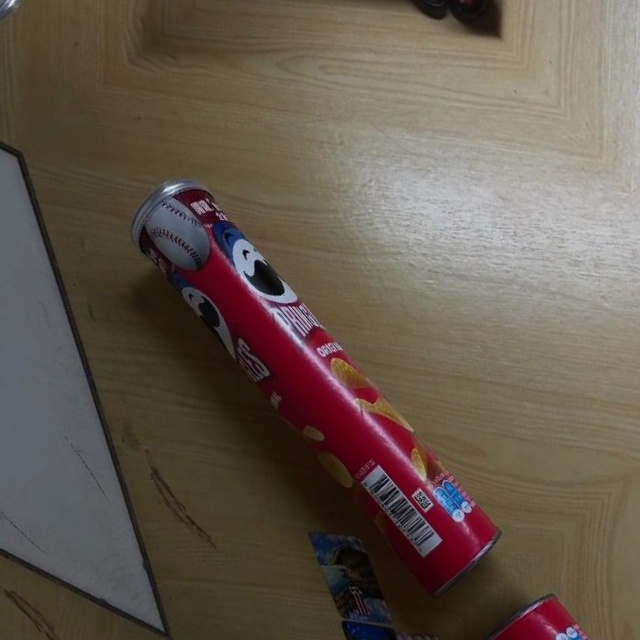Pringles: (113, 158, 509, 602)
